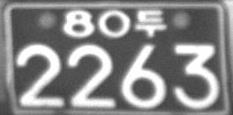0: (98, 9, 131, 39)
2: (67, 42, 116, 108), (16, 42, 64, 108)
3: (173, 43, 221, 109)
6: (120, 44, 166, 110)
8: (62, 8, 94, 38)
두: (135, 9, 167, 37)
